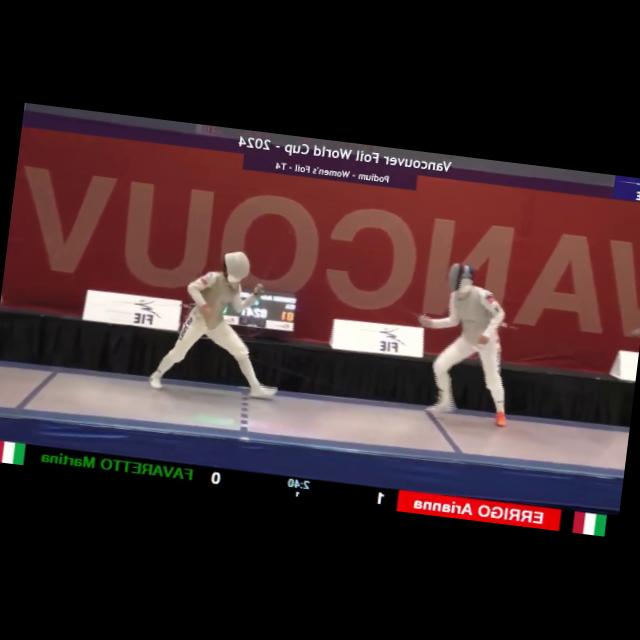blade: (254, 251, 276, 295), (394, 298, 428, 324)
